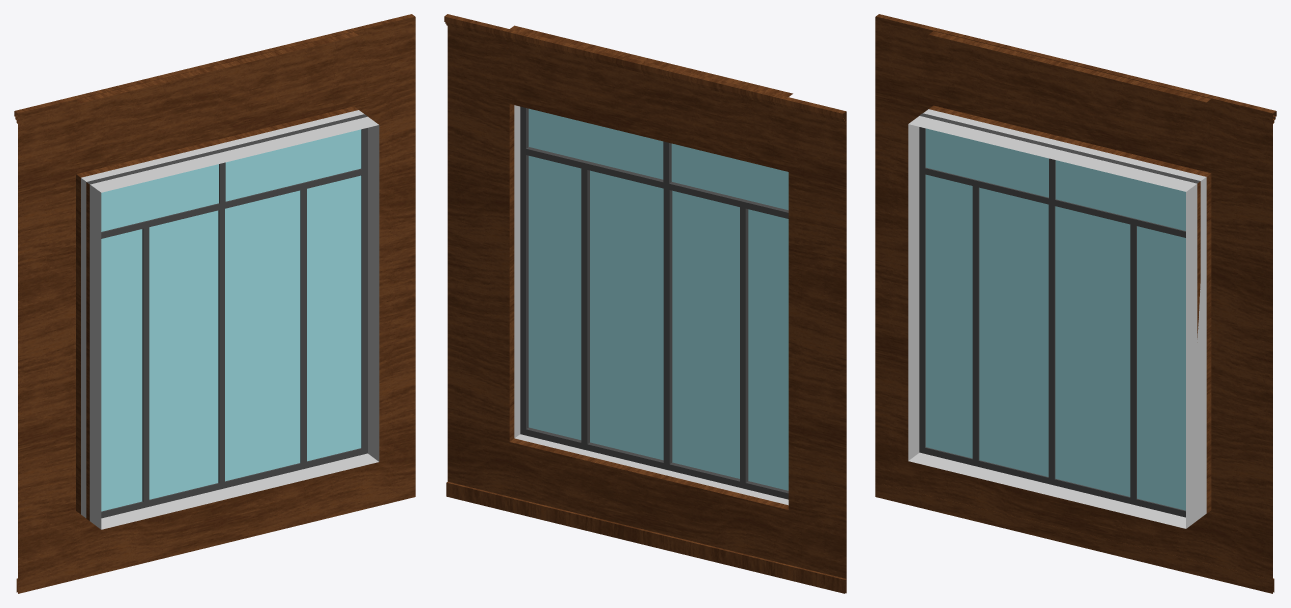
Rendered from ARC0110035.fbx.
3 views of the same model, side by side, from view 1: azimuth 30°, elevation 25°; view 2: azimuth 150°, elevation 25°; view 3: azimuth 330°, elevation 25° (orthographic).
Visible parts, largest first — view 1: smARC0110035; view 2: smARC0110035; view 3: smARC0110035.
Part boxes in pixels (box(x1,y1,x2,y2)): smARC0110035: box(14, 14, 415, 593); smARC0110035: box(444, 14, 846, 593); smARC0110035: box(875, 14, 1276, 593).
Bounding box in the file's own units: 337 × 389 × 42.43.
1 material, 1 textured.
